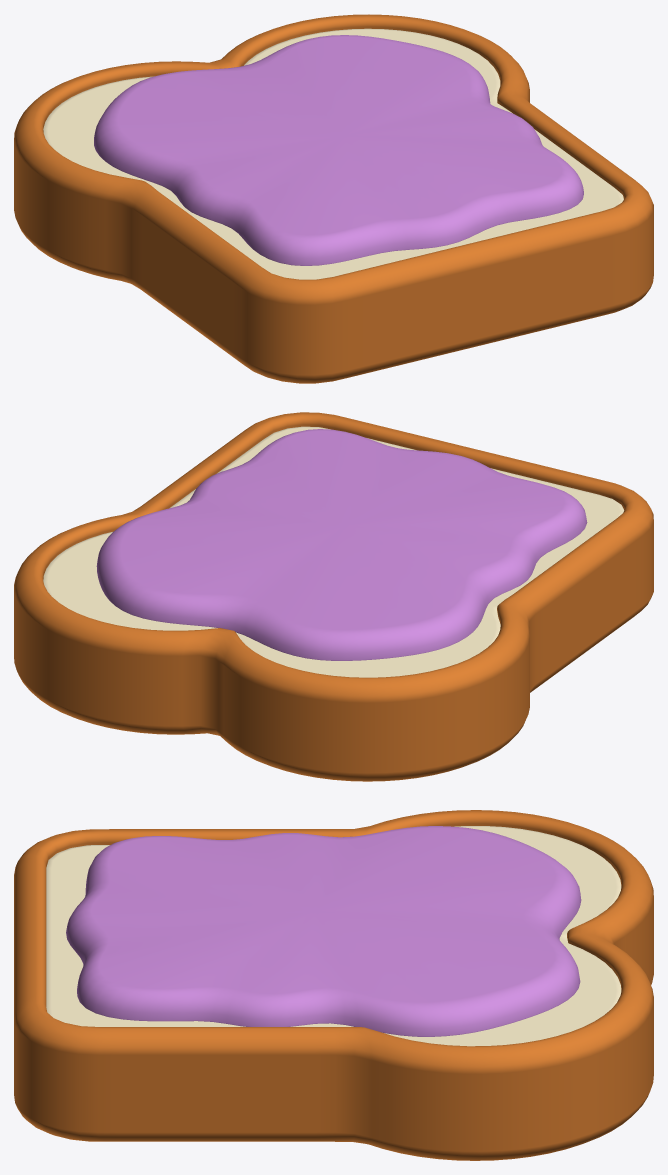
The model's file is toast_purple.glb.
The picture shows the model from 3 angles, top to bottom: view 1: azimuth 30°, elevation 25°; view 2: azimuth 150°, elevation 25°; view 3: azimuth 270°, elevation 25°; orthographic projection. The views are drawn at different scales.
Parts seen in each view (by area): view 1: Purple Crust, Purple Spread, Purple Crumb; view 2: Purple Crust, Purple Spread, Purple Crumb; view 3: Purple Crust, Purple Spread, Purple Crumb.
Part boxes in pixels (box(x1,y1,x2,y2)): Purple Crust: box(14, 14, 653, 383); Purple Spread: box(94, 35, 583, 265); Purple Crumb: box(43, 28, 623, 279); Purple Crust: box(14, 412, 653, 781); Purple Spread: box(96, 429, 587, 660); Purple Crumb: box(43, 426, 624, 677); Purple Crust: box(14, 810, 653, 1160); Purple Spread: box(66, 826, 581, 1036); Purple Crumb: box(46, 826, 621, 1046).
Size of the model in its own units: 2.26 by 0.538 by 2.4.
